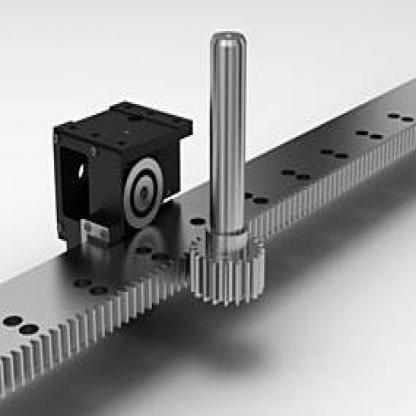FOD: (184, 226, 268, 308)
